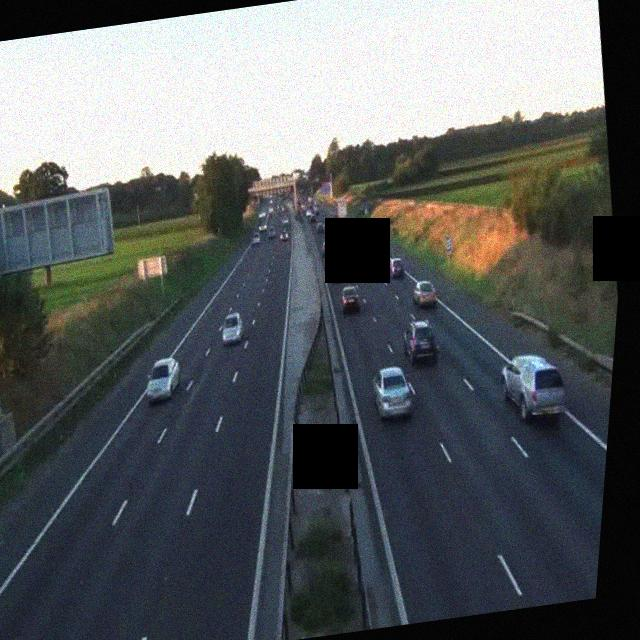car: (496, 350, 572, 426), (369, 364, 418, 422), (399, 316, 443, 368), (142, 357, 185, 404), (217, 310, 247, 347), (409, 278, 439, 308), (339, 284, 362, 312), (387, 257, 408, 280), (353, 255, 372, 278), (328, 260, 346, 284), (320, 238, 335, 258), (337, 230, 352, 244), (354, 227, 367, 242), (315, 218, 326, 234), (279, 228, 290, 241), (251, 232, 262, 245), (281, 213, 290, 224)
truck: (332, 200, 351, 228)
